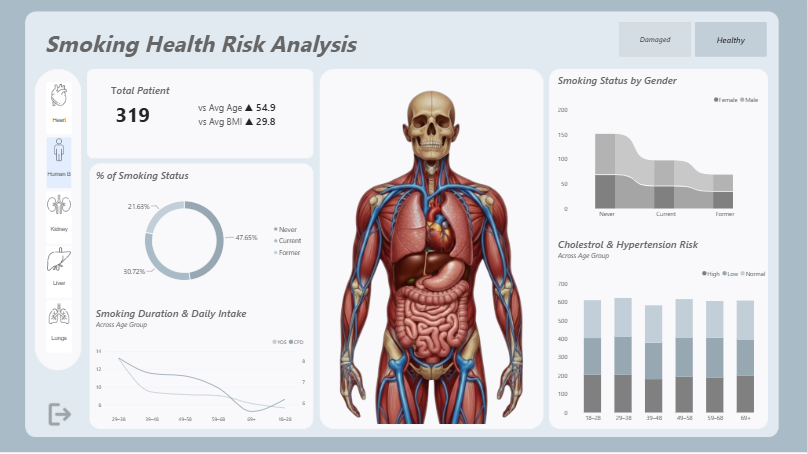

The page's visual inventory and layout, read from the dashboard file:
{"tool":"powerbi","page":{"name":"Smoking Health Risk Analysis","canvas":[1920,1080],"ordinal":0},"visuals":[{"type":"cardVisual","fields":{"Data":["CountNonNull(health_dataset.Patient_ID)"]},"box":[228.6,178.6,497.6,185.7],"z":0},{"type":"textbox","box":[264.3,178.6,283.3,114.3],"z":1000},{"type":"advancedSlicerVisual","fields":{"Values":["condition.Organ_Condition"]},"box":[1473.8,52.4,352.4,83.3],"z":2000},{"type":"ChicletSlicer1448559807354","fields":{"Category":["Organs.Organ"],"Image":["Organs.Icon_URL"]},"box":[90.5,178.6,100,690.5],"z":3000},{"type":"image","box":[764.3,178.6,528.6,831],"z":4000},{"type":"donutChart","title":"% of Smoking Status","fields":{"Category":["health_dataset.Smoking_Status"],"Y":["CountNonNull(health_dataset.Smoking_Status)"]},"box":[211.9,385.7,531,328.6],"z":5000},{"type":"lineChart","title":"Smoking Duration & Daily Intake","fields":{"Category":["health_dataset.Age Group"],"Y":["Avg(health_dataset.Years_of_Smoking)"],"Y2":["Avg(health_dataset.Cigarettes_Per_Day)"]},"box":[211.9,714.3,531,311.9],"z":6000},{"type":"ribbonChart","title":"Smoking Status by Gender","fields":{"Category":["health_dataset.Smoking_Status"],"Series":["health_dataset.Gender"],"Y":["CountNonNull(health_dataset.Patient_ID)"]},"box":[1311.9,159.5,514.3,381],"z":6001},{"type":"columnChart","title":"Cholestrol & Hypertension Risk","fields":{"Category":["health_dataset.Age Group"],"Series":["health_dataset.BP_Risk"],"Y":["Avg(health_dataset.Cholesterol_Level)"]},"box":[1311.9,550,531,476.2],"z":6002},{"type":"textbox","box":[107.1,66.7,819,92.9],"z":6003}]}

Visuals, with their boxes in screenshot pixels (x1, y1, x2, y2), scaled from the page's 1920x1080 canvas onto the 808x454 screenshot:
cardVisual - CountNonNull(health_dataset.Patient_ID): (x1=96, y1=75, x2=306, y2=153)
textbox: (x1=111, y1=75, x2=230, y2=123)
advancedSlicerVisual - condition.Organ_Condition: (x1=620, y1=22, x2=769, y2=57)
ChicletSlicer1448559807354 - Organs.Organ x Organs.Icon_URL: (x1=38, y1=75, x2=80, y2=365)
image: (x1=322, y1=75, x2=544, y2=424)
"% of Smoking Status" donutChart: (x1=89, y1=162, x2=313, y2=300)
"Smoking Duration & Daily Intake" lineChart: (x1=89, y1=300, x2=313, y2=431)
"Smoking Status by Gender" ribbonChart: (x1=552, y1=67, x2=769, y2=227)
"Cholestrol & Hypertension Risk" columnChart: (x1=552, y1=231, x2=776, y2=431)
textbox: (x1=45, y1=28, x2=390, y2=67)
